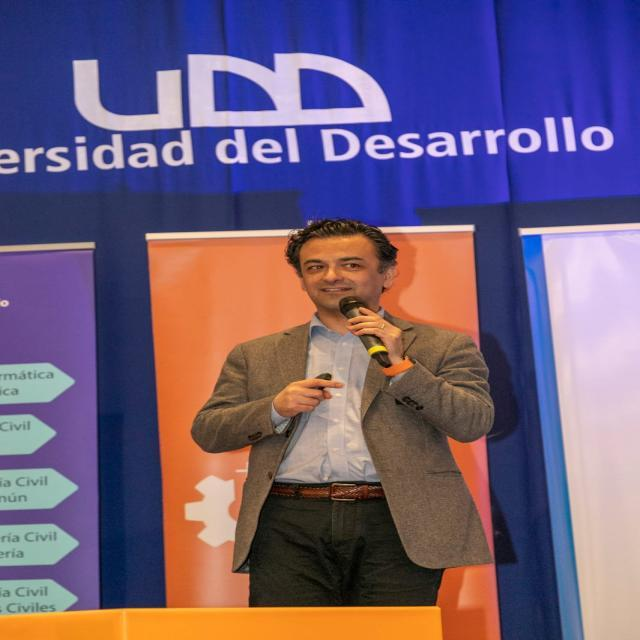person: (153, 205, 529, 640)
